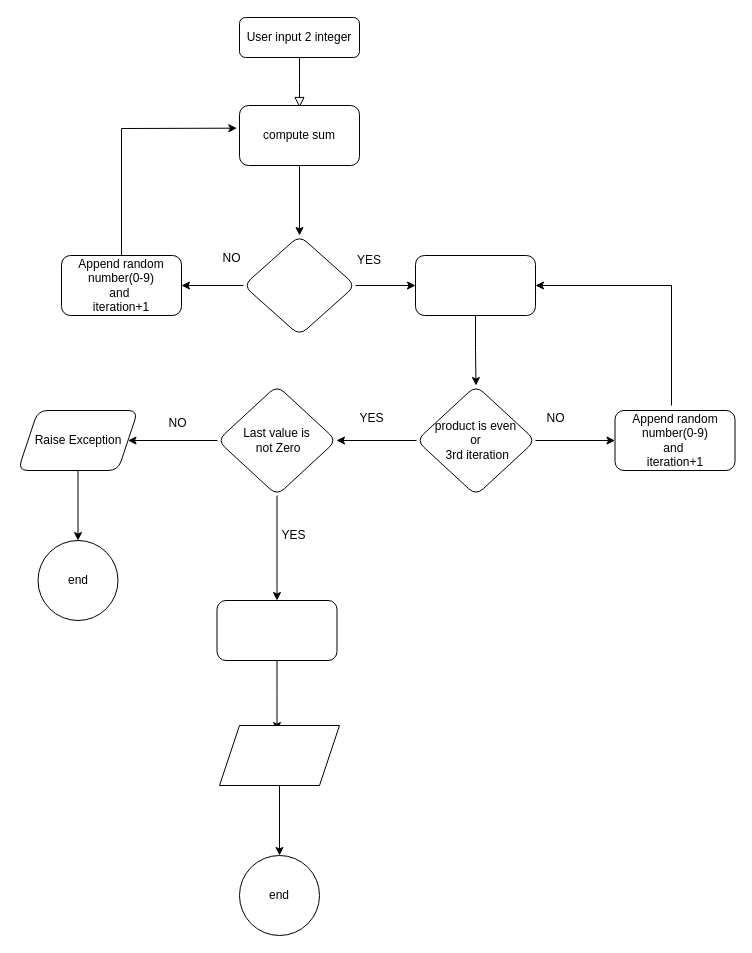
Some shapes in this 752 by 953 pixel diagram are drawn without their labels. The shapes that lost their labels are listed below. From the top down, each one's centre as x and y in pixels, then its label:
At [299,285]: "sum is even or 3rd iteration".
At [475,285]: "compute product".
At [276,630]: "compute devision".
At [279,755]: "print Result".
